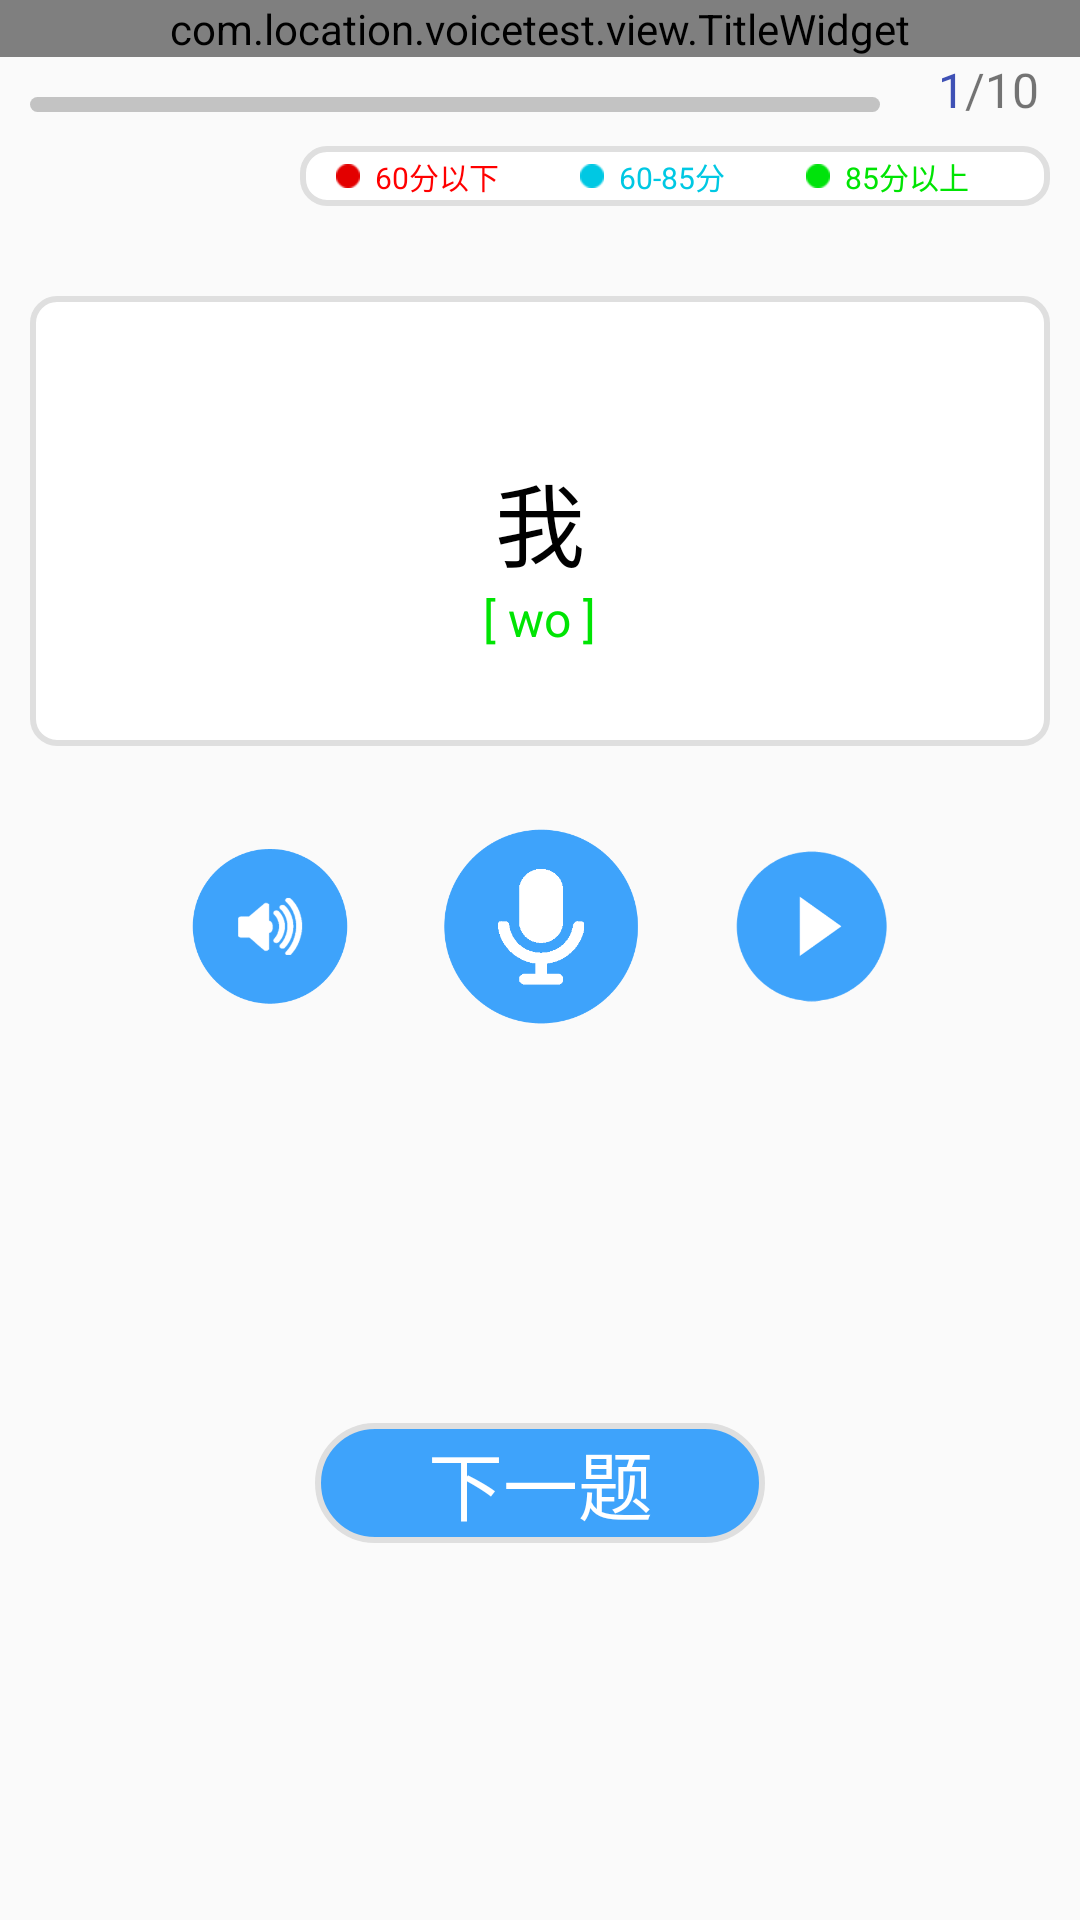

Named icons in this screenshot (1080px×1920px) and their bounding boxes, (x1, y1, x2, y2):
bofangone: (736, 851, 887, 1002)
luyinone: (444, 829, 638, 1024)
yinliangone: (192, 849, 348, 1004)
